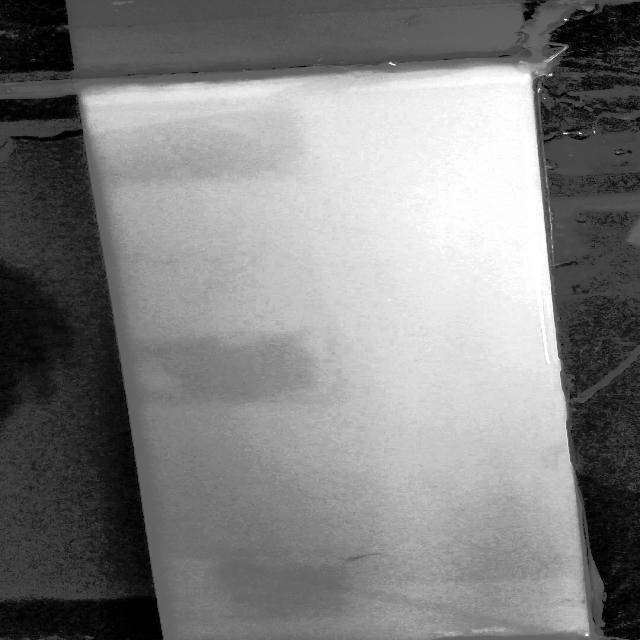shrimp: (335, 549, 399, 567)
